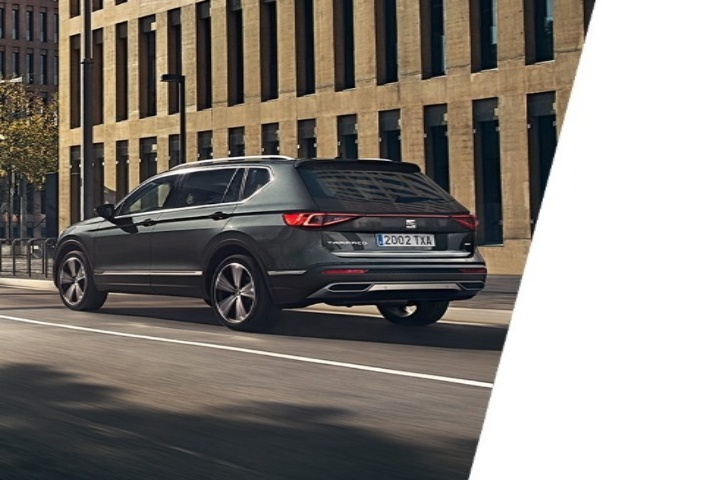camper: (46, 143, 495, 329)
